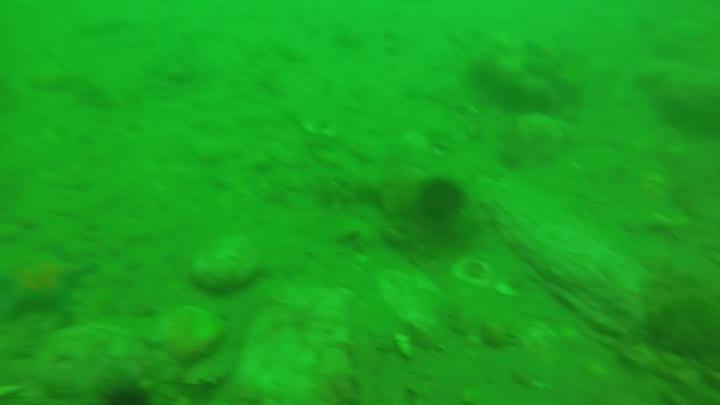echinus: (416, 176, 473, 226), (100, 384, 161, 405)
scallop: (451, 260, 498, 288)
starfish: (7, 244, 95, 327)
